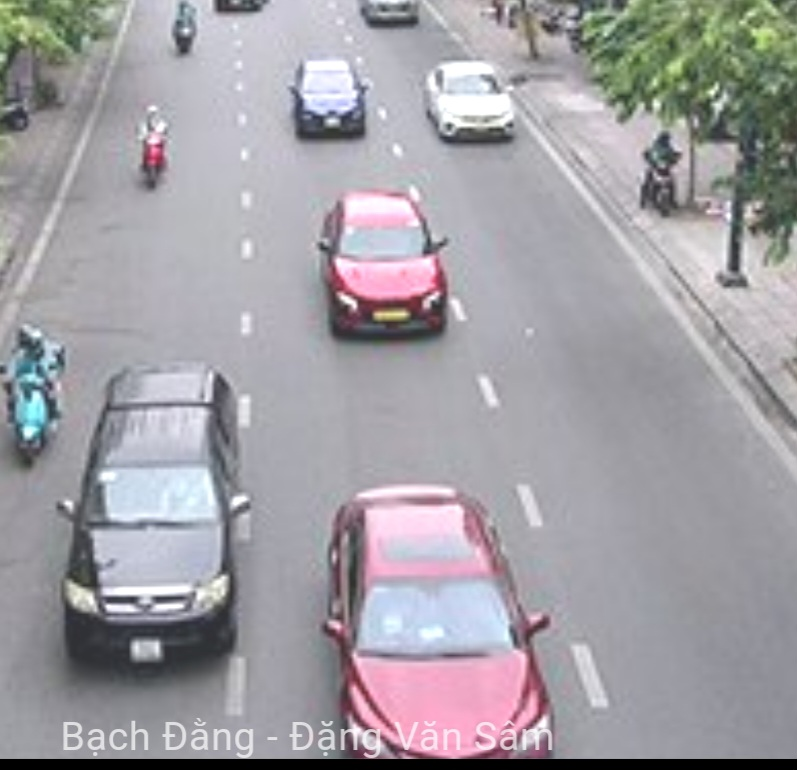car: (326, 490, 551, 758), (65, 360, 237, 668), (317, 191, 450, 338), (424, 59, 515, 142), (293, 55, 365, 136)
